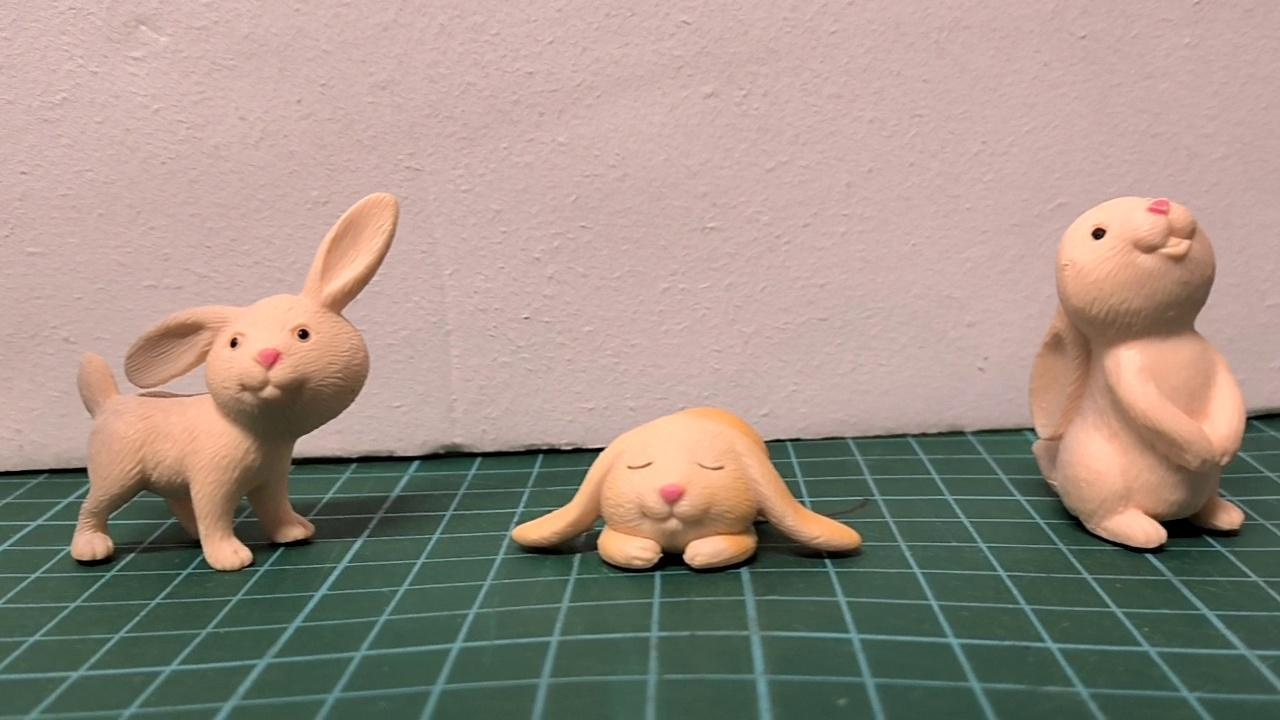pet: (68, 191, 400, 569), (1031, 194, 1248, 552), (512, 406, 862, 571)
